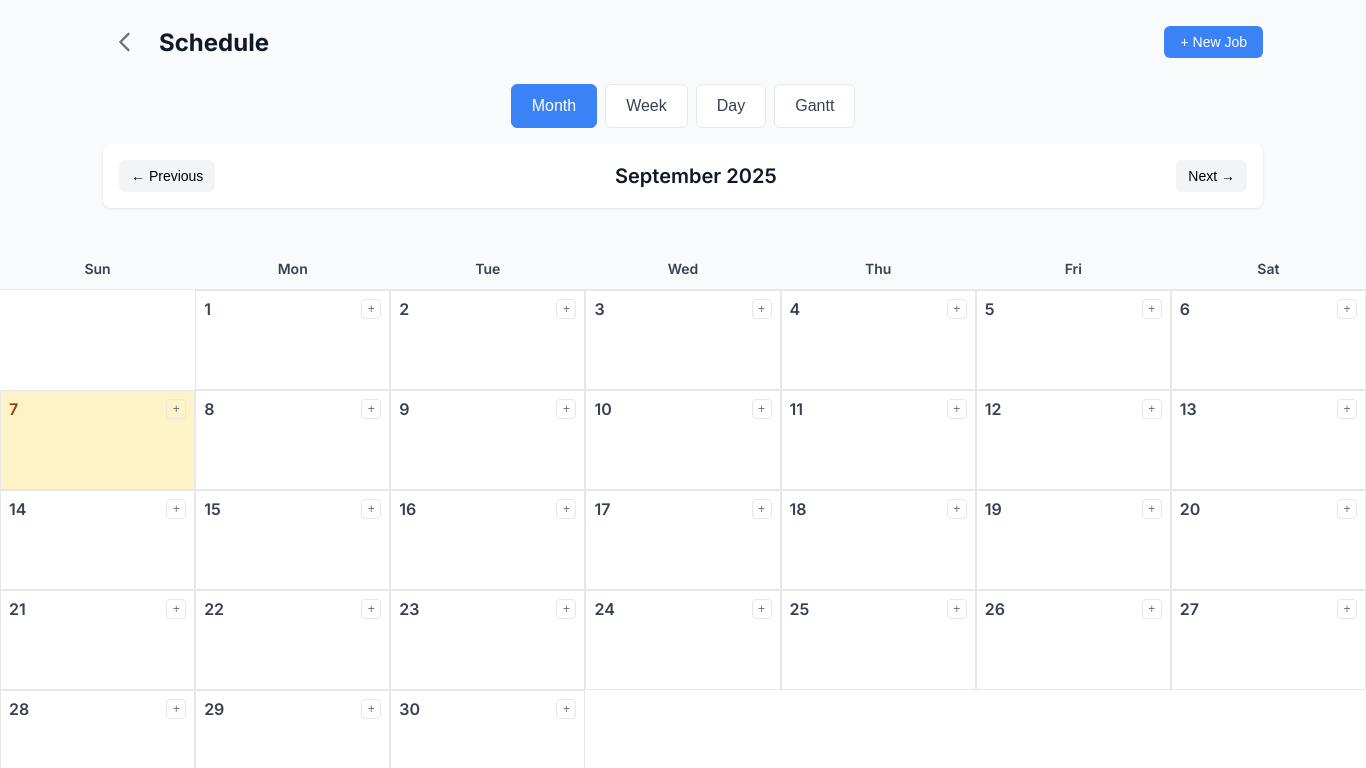
Test: Gantt Chart View › switches to gantt view when clicked
# Click gantt button
Click the button "gantt": (815, 106) [774, 84, 855, 128]
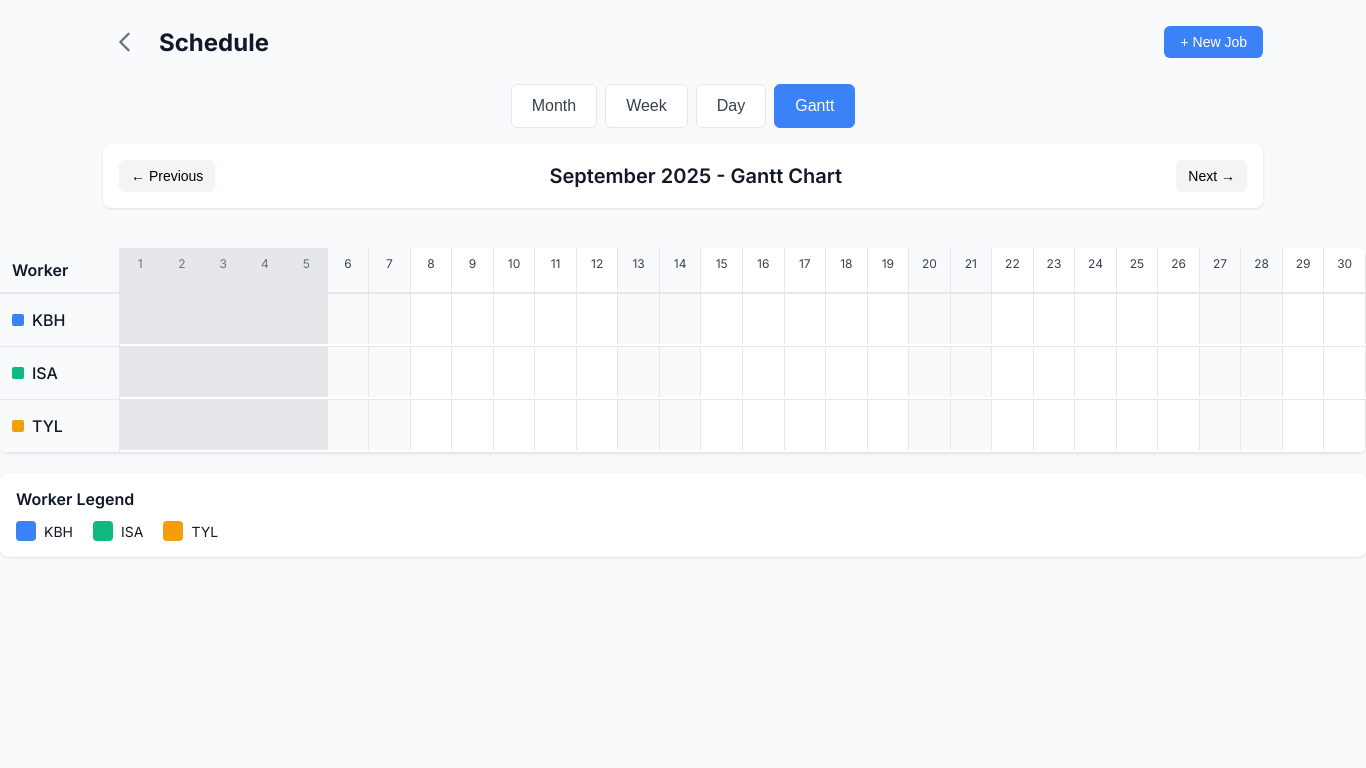
expect the heading "September 2025 - Gantt Chart" is shown: met, box [550, 164, 842, 188]
expect the text "Worker" is shown: met, box [0, 248, 120, 292]
